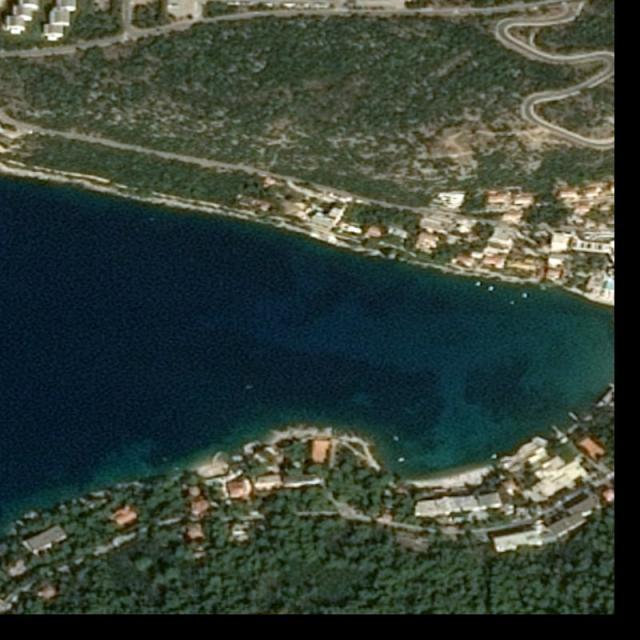ship: (488, 286, 494, 291), (522, 293, 527, 298), (476, 282, 480, 286)
